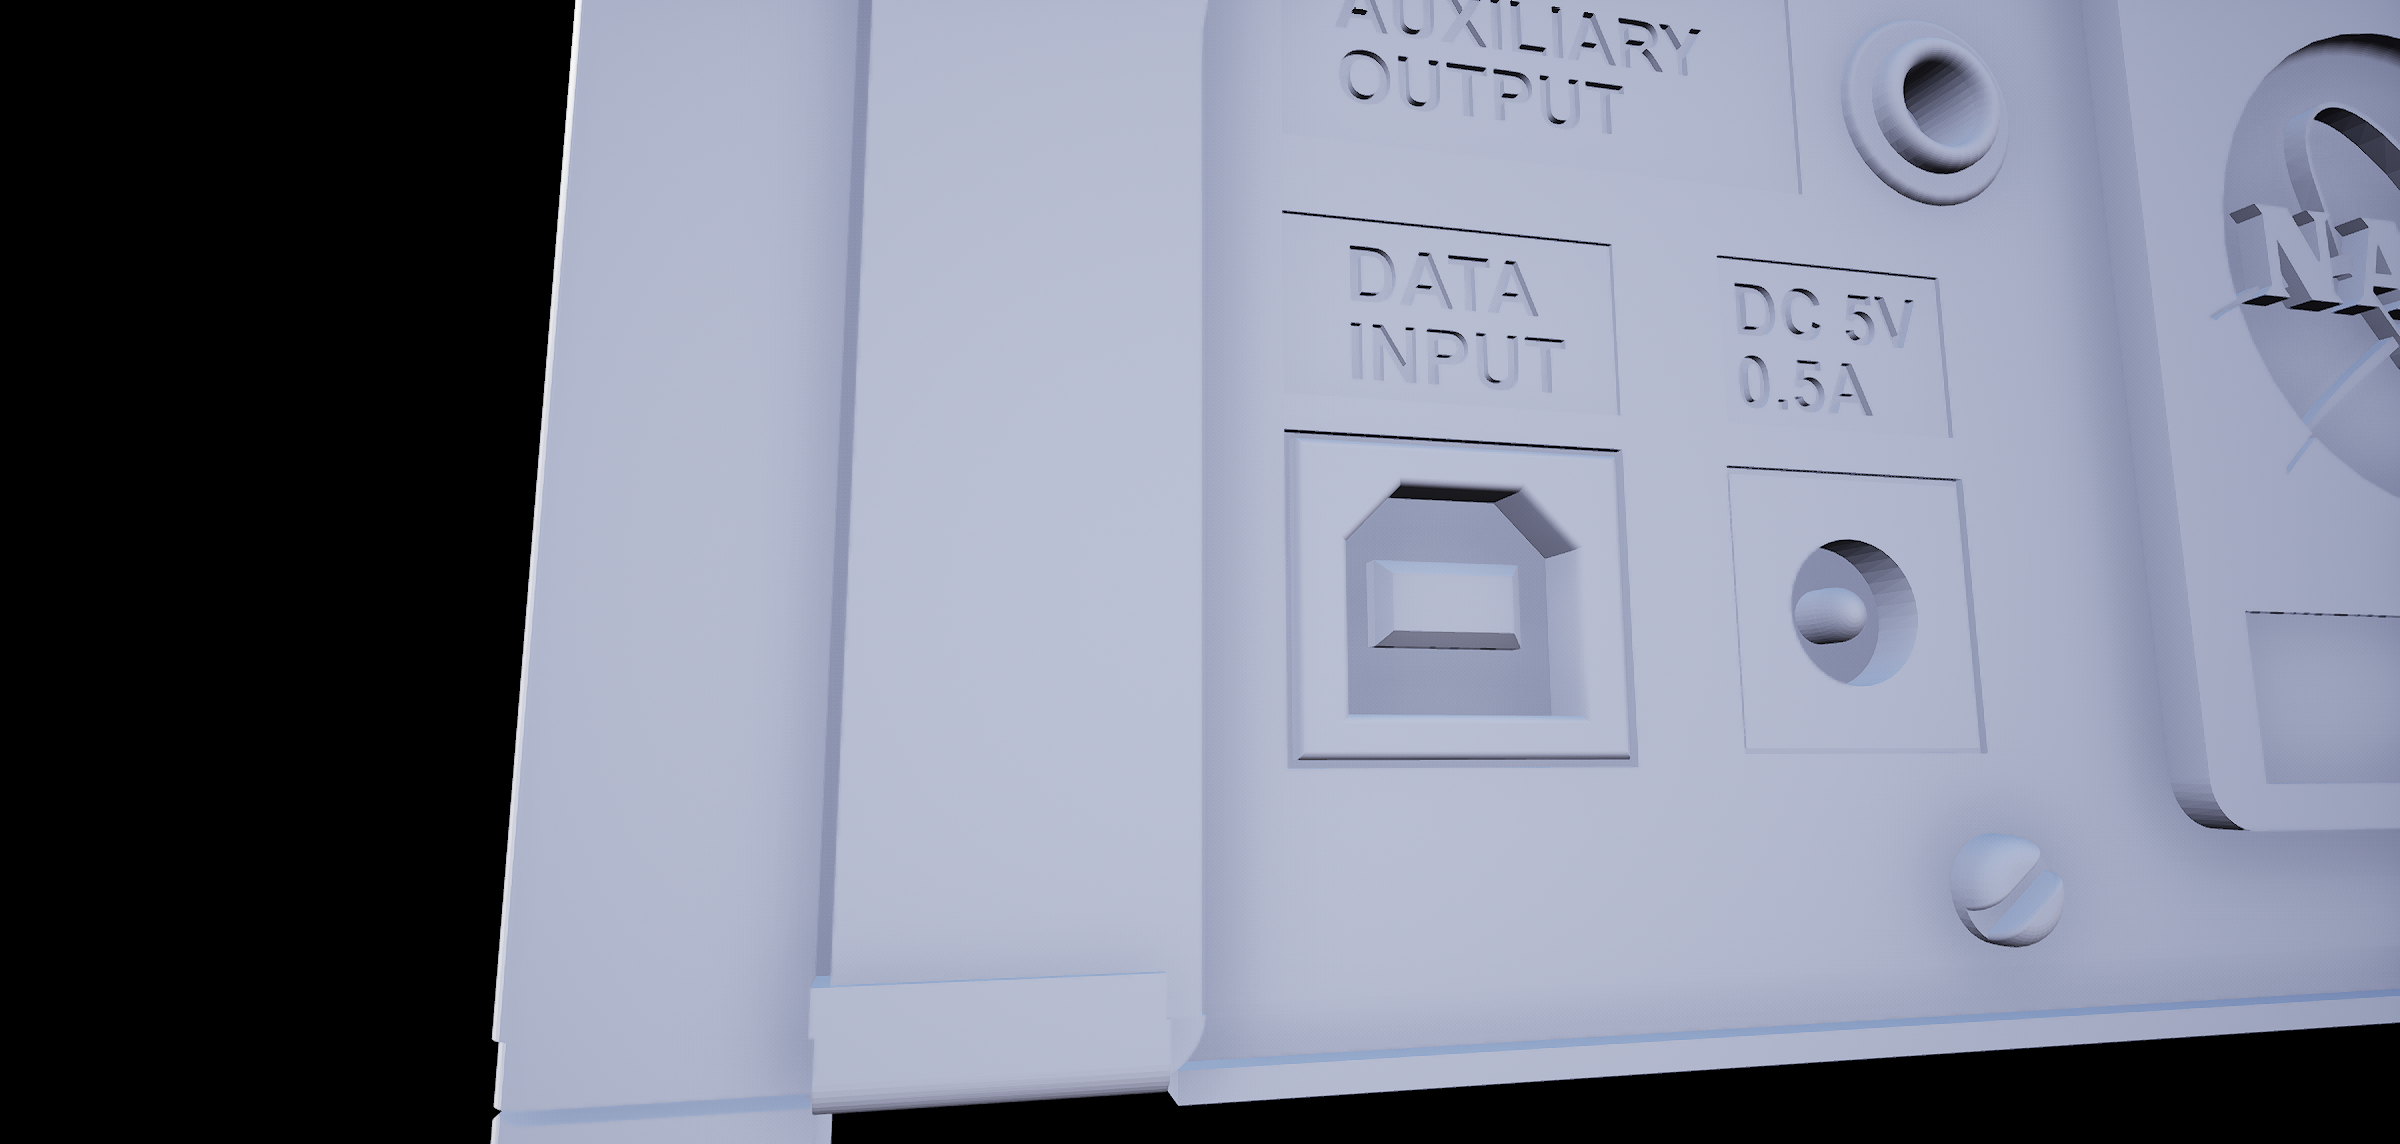aux: (1837, 11, 2023, 227)
dc: (1780, 518, 1938, 701)
usb: (1338, 463, 1615, 740)
